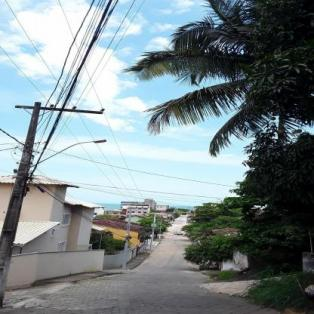Poste: (1, 102, 47, 306)
